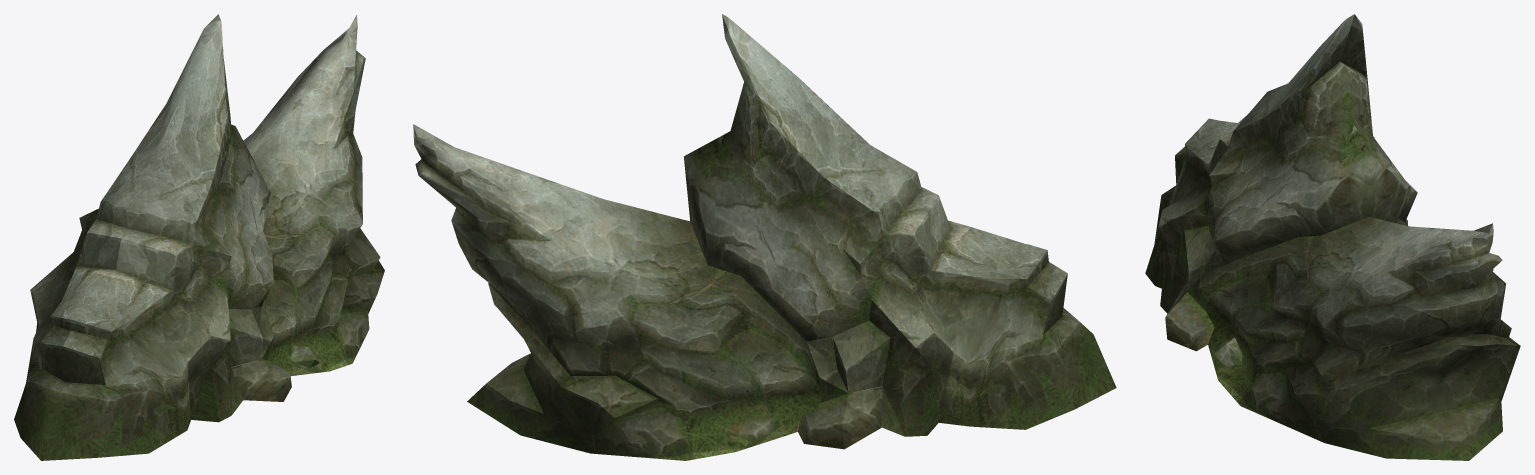
Rendered from 3004_Item_shitou_7.FBX.
3 renders of one model, left to right at view 1: azimuth 30°, elevation 25°; view 2: azimuth 150°, elevation 25°; view 3: azimuth 270°, elevation 25°, orthographic. The views are drawn at different scales.
Visible parts, largest first — view 1: 3004_Item_shitou_7; view 2: 3004_Item_shitou_7; view 3: 3004_Item_shitou_7.
Part boxes in pixels (x1,y1,x2,y2): 3004_Item_shitou_7: (14, 14, 384, 460); 3004_Item_shitou_7: (413, 14, 1116, 460); 3004_Item_shitou_7: (1145, 14, 1520, 460).
Bounding box in the file's own units: 688 × 484 × 452.
